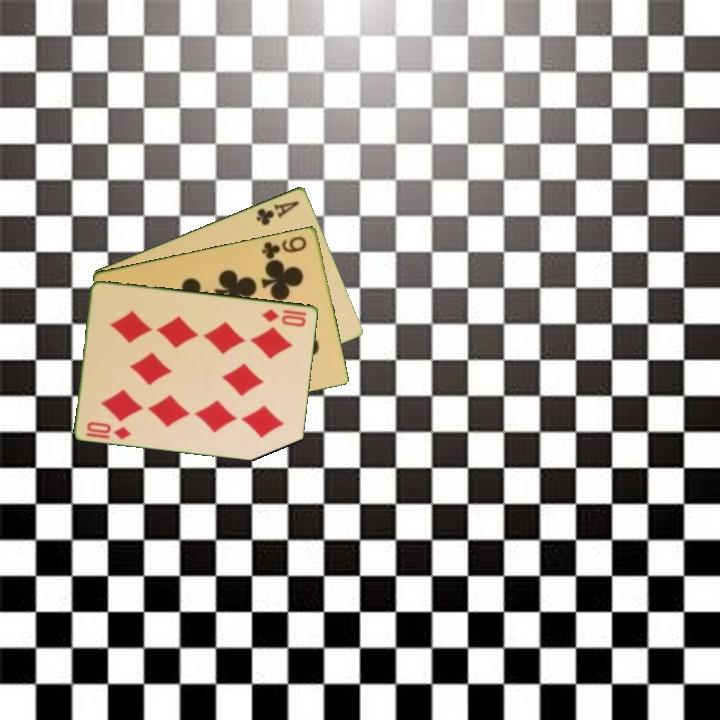10d: (258, 305, 310, 329), (84, 418, 134, 442)
9c: (258, 232, 310, 262)
Ac: (253, 197, 302, 228)
